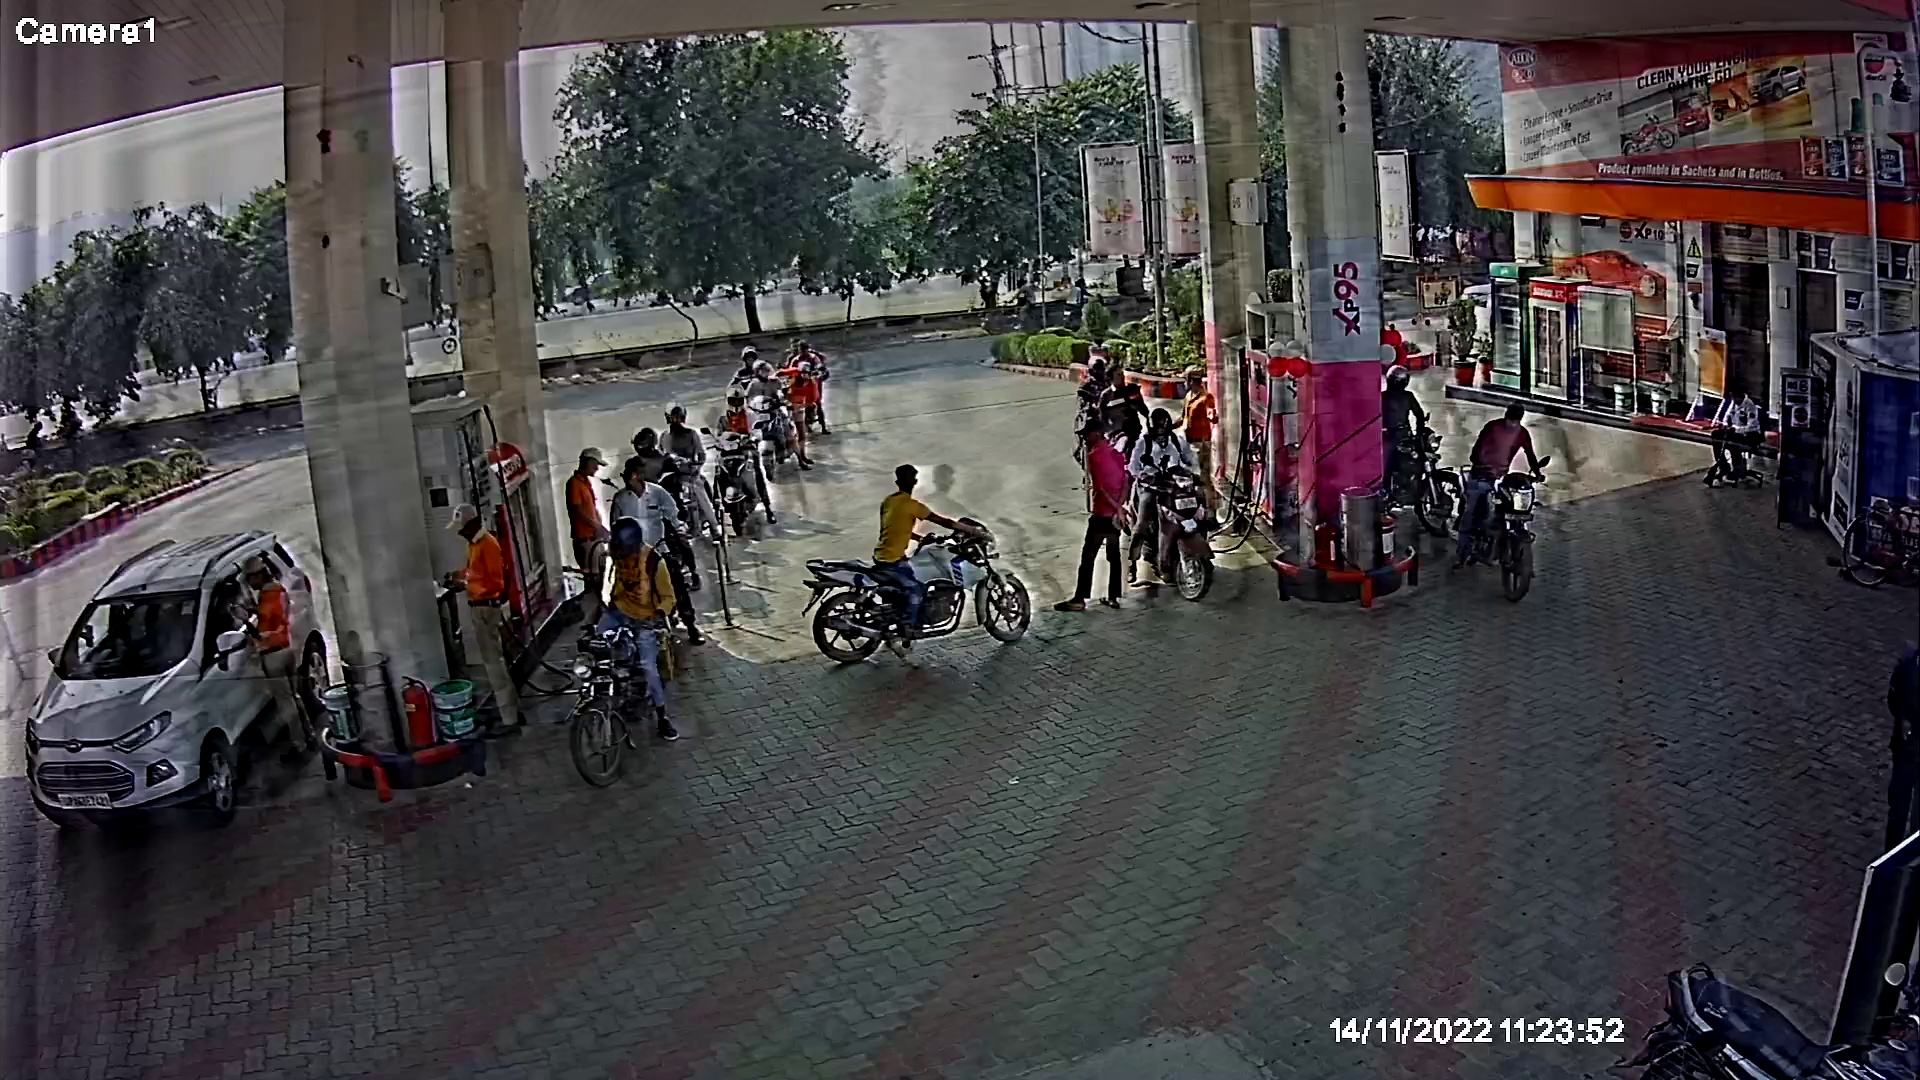Bike: (802, 450, 1026, 675), (1606, 938, 1912, 1076), (556, 504, 682, 798), (595, 394, 729, 647), (698, 328, 836, 537), (1444, 396, 1553, 608), (1121, 404, 1226, 605), (1378, 356, 1469, 547), (1064, 351, 1145, 521)
Car: (20, 509, 335, 833)
Others: (440, 495, 531, 742), (233, 549, 323, 771), (563, 440, 613, 659), (1168, 353, 1224, 533)
